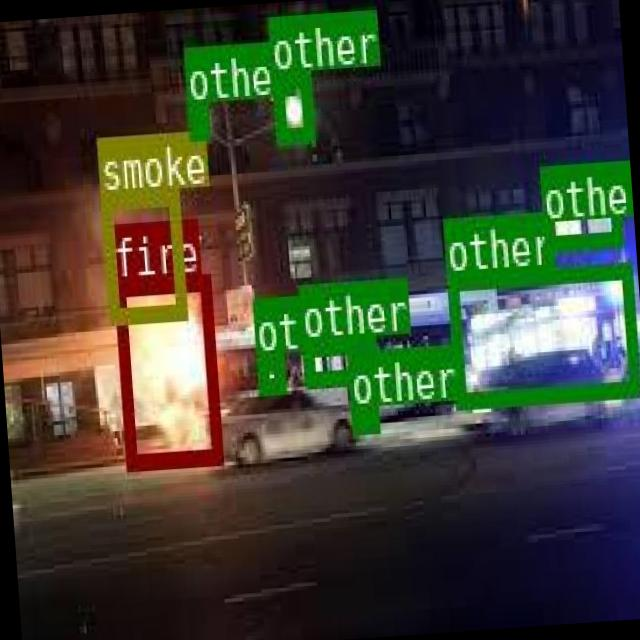fire: (112, 273, 220, 466)
smoke: (98, 186, 184, 321)
